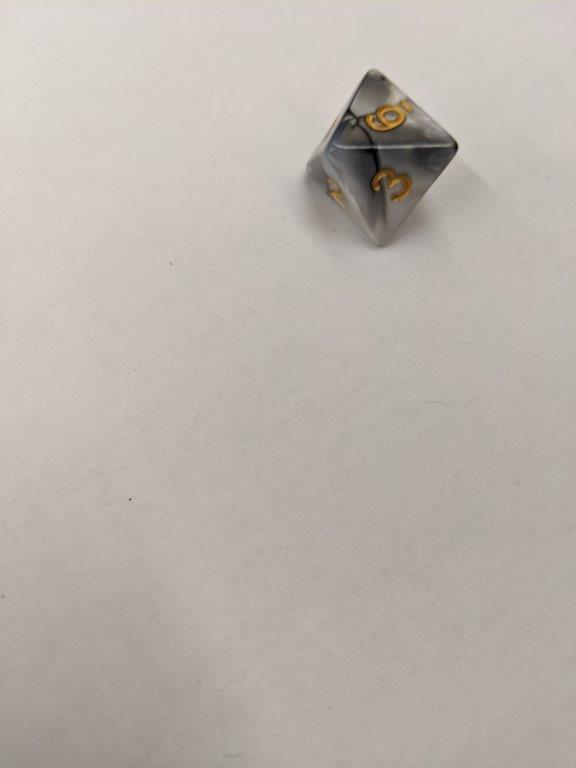d8-6: (303, 67, 462, 248)
